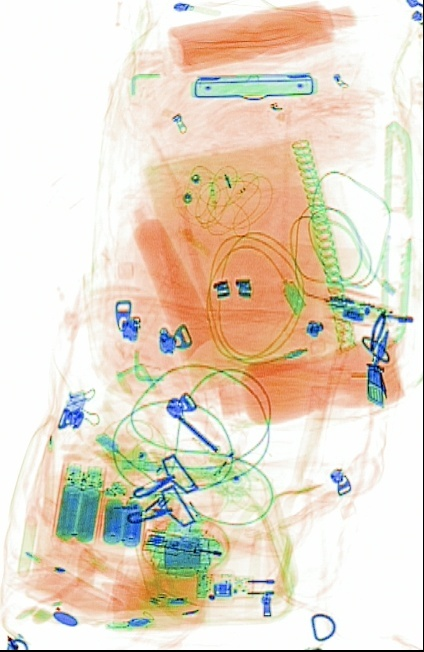powerbank: (51, 452, 106, 544), (99, 473, 145, 548)
